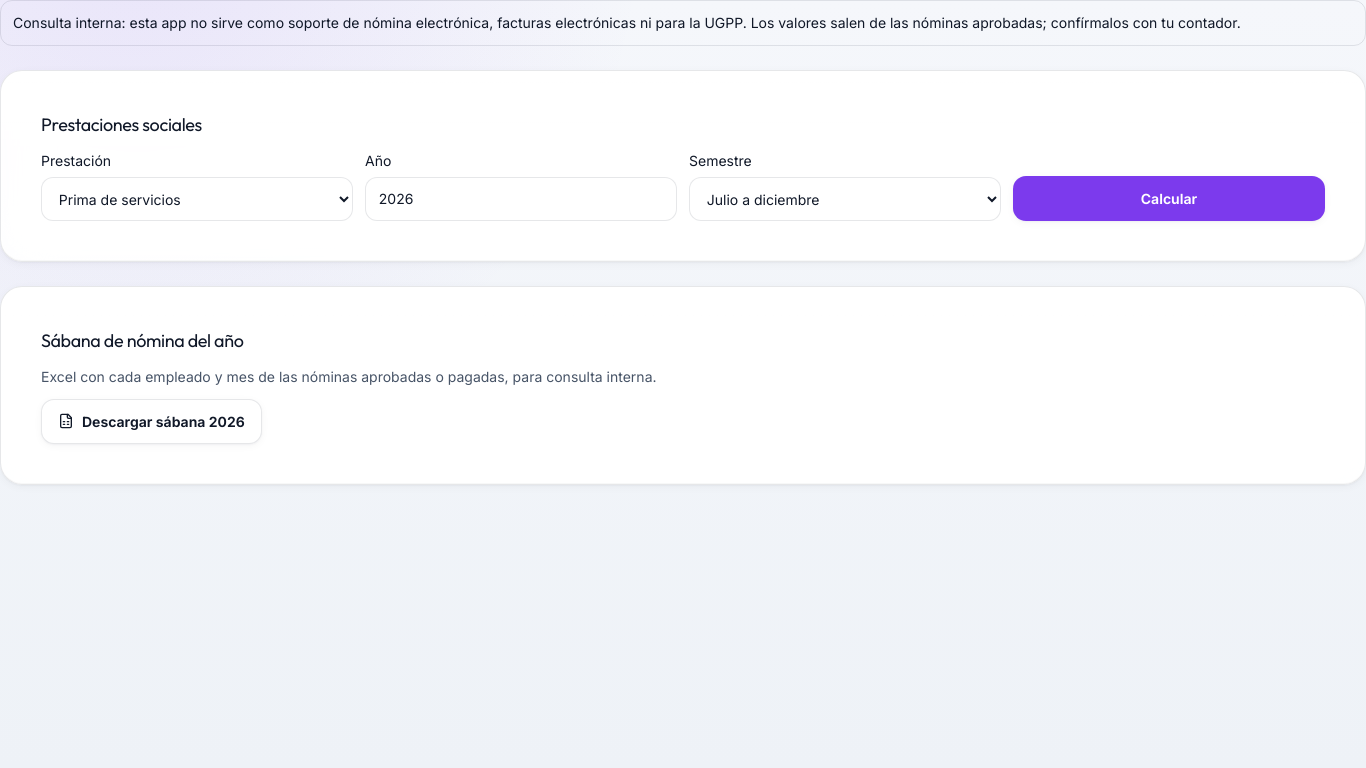
Test: benefits: previews the accrued prima, downloads Excel, registers the payment and offers the yearly sheet
This screenshot has width=1366, height=768.
Later steps or results of the test are not shown.
Expected: the text with test id "benefits-note" shows "ni para la UGPP", [13,14,1241,31]
Click the button with test id "benefit-preview" at (1169, 199), box [1013,176,1325,221]
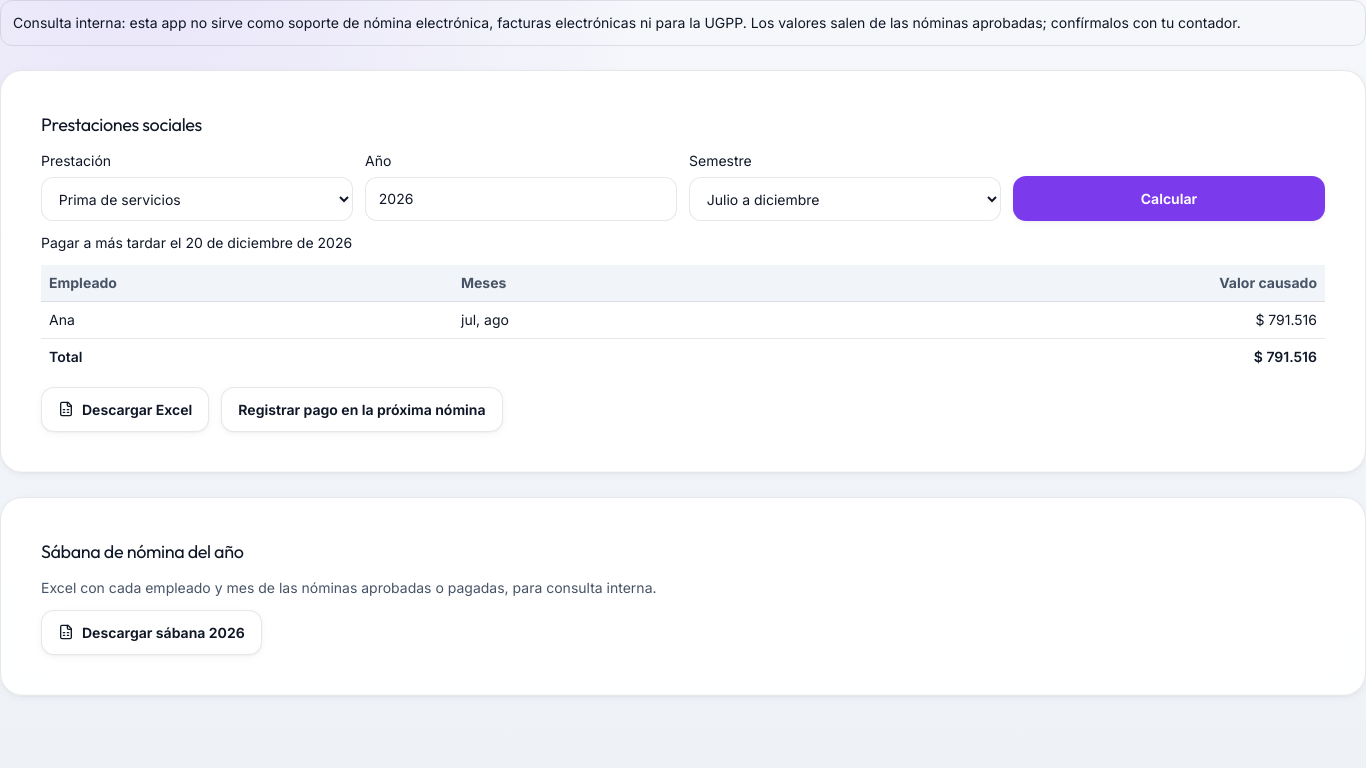
Now the element with test id "benefit-result" shows "20 de diciembre de 2026", box [41,234,352,251]
Now the cell with test id "benefit-total" reads "$ 791.516", box [1254,348,1317,365]
